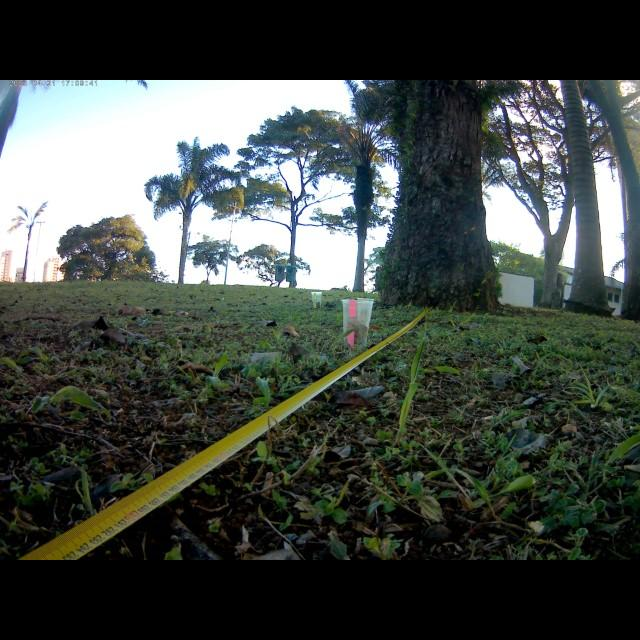arvore: (363, 84, 506, 314)
